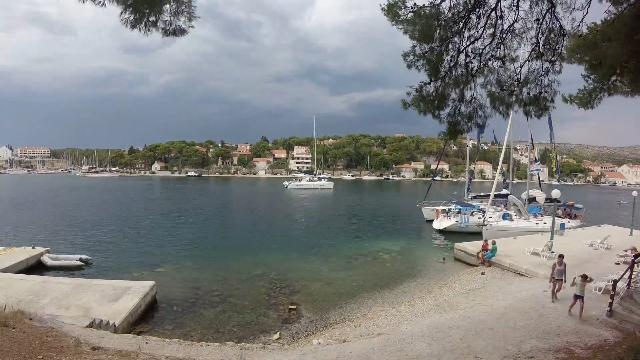Freighter: (70, 161, 124, 179)
Sailboat: (278, 171, 339, 191)
